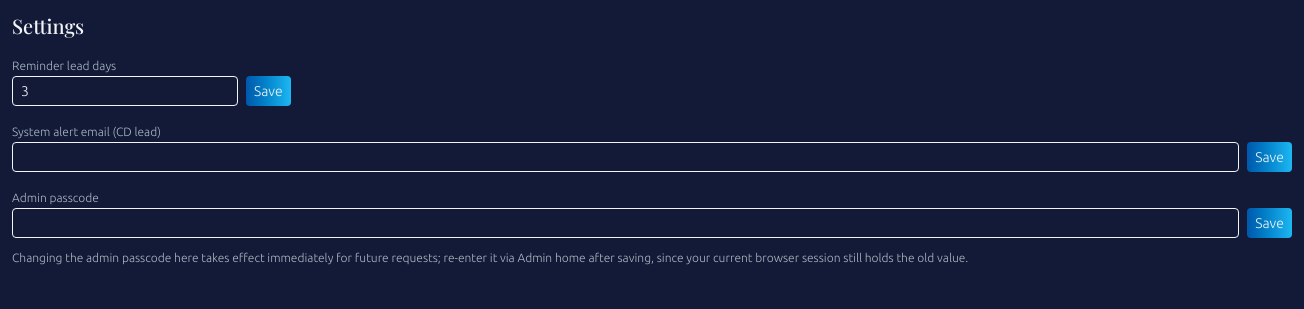
SettingsPage › saves adminPasscode and shows a confirmation
In the 3rd field: (626, 223) [12,208,1239,238], type "newpasscode"
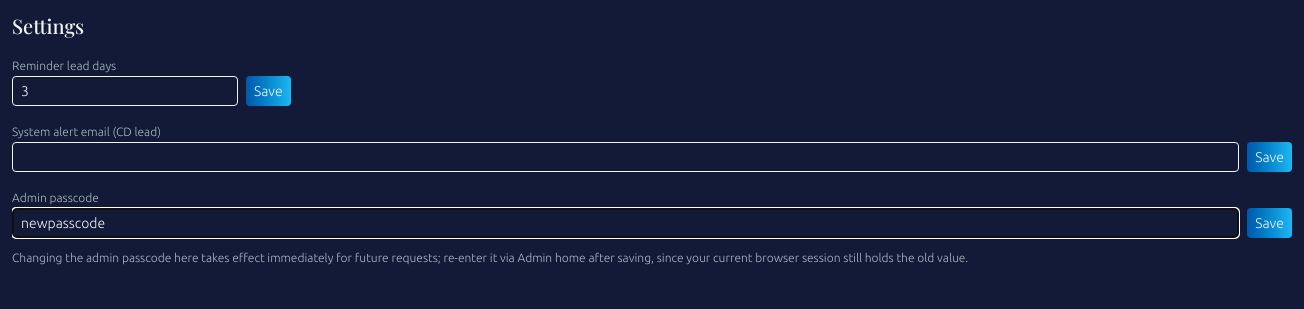
Click the 3rd button "Save": (1270, 223) [1247,208,1292,238]
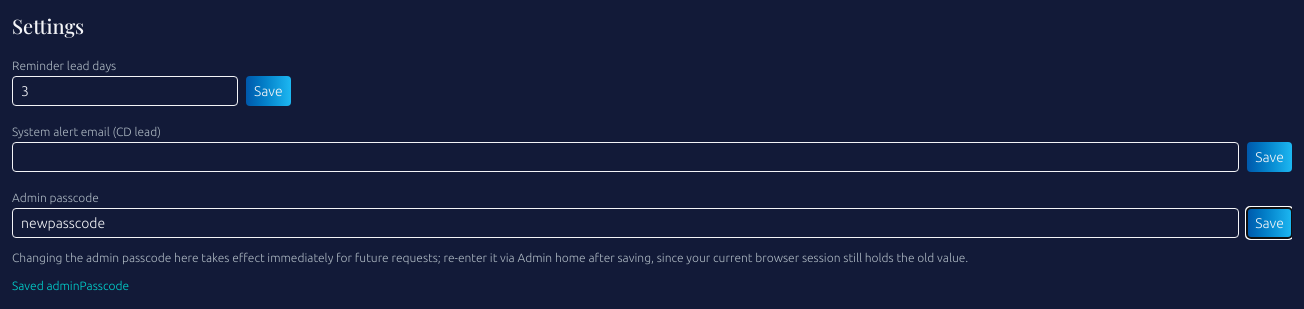
Expected: the text "Saved adminPasscode" is shown, [12,279,129,292]
